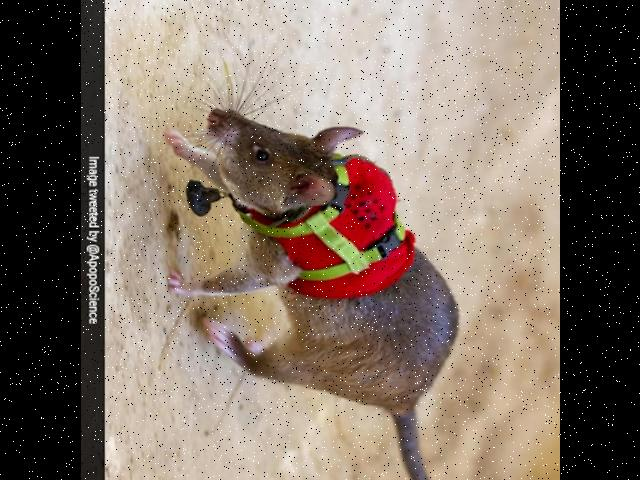Tikus: (160, 105, 466, 480)
